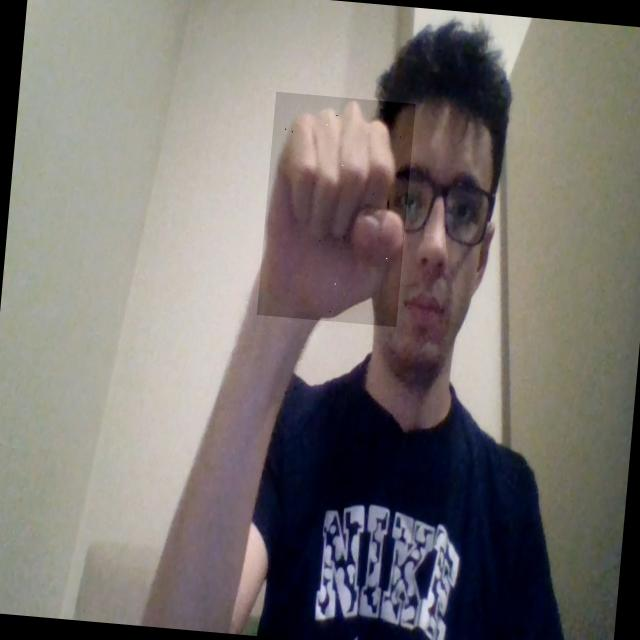yes: (256, 91, 415, 326)
